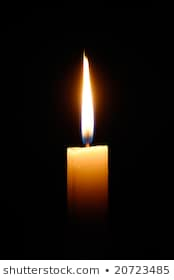Fire: (75, 50, 98, 144)
